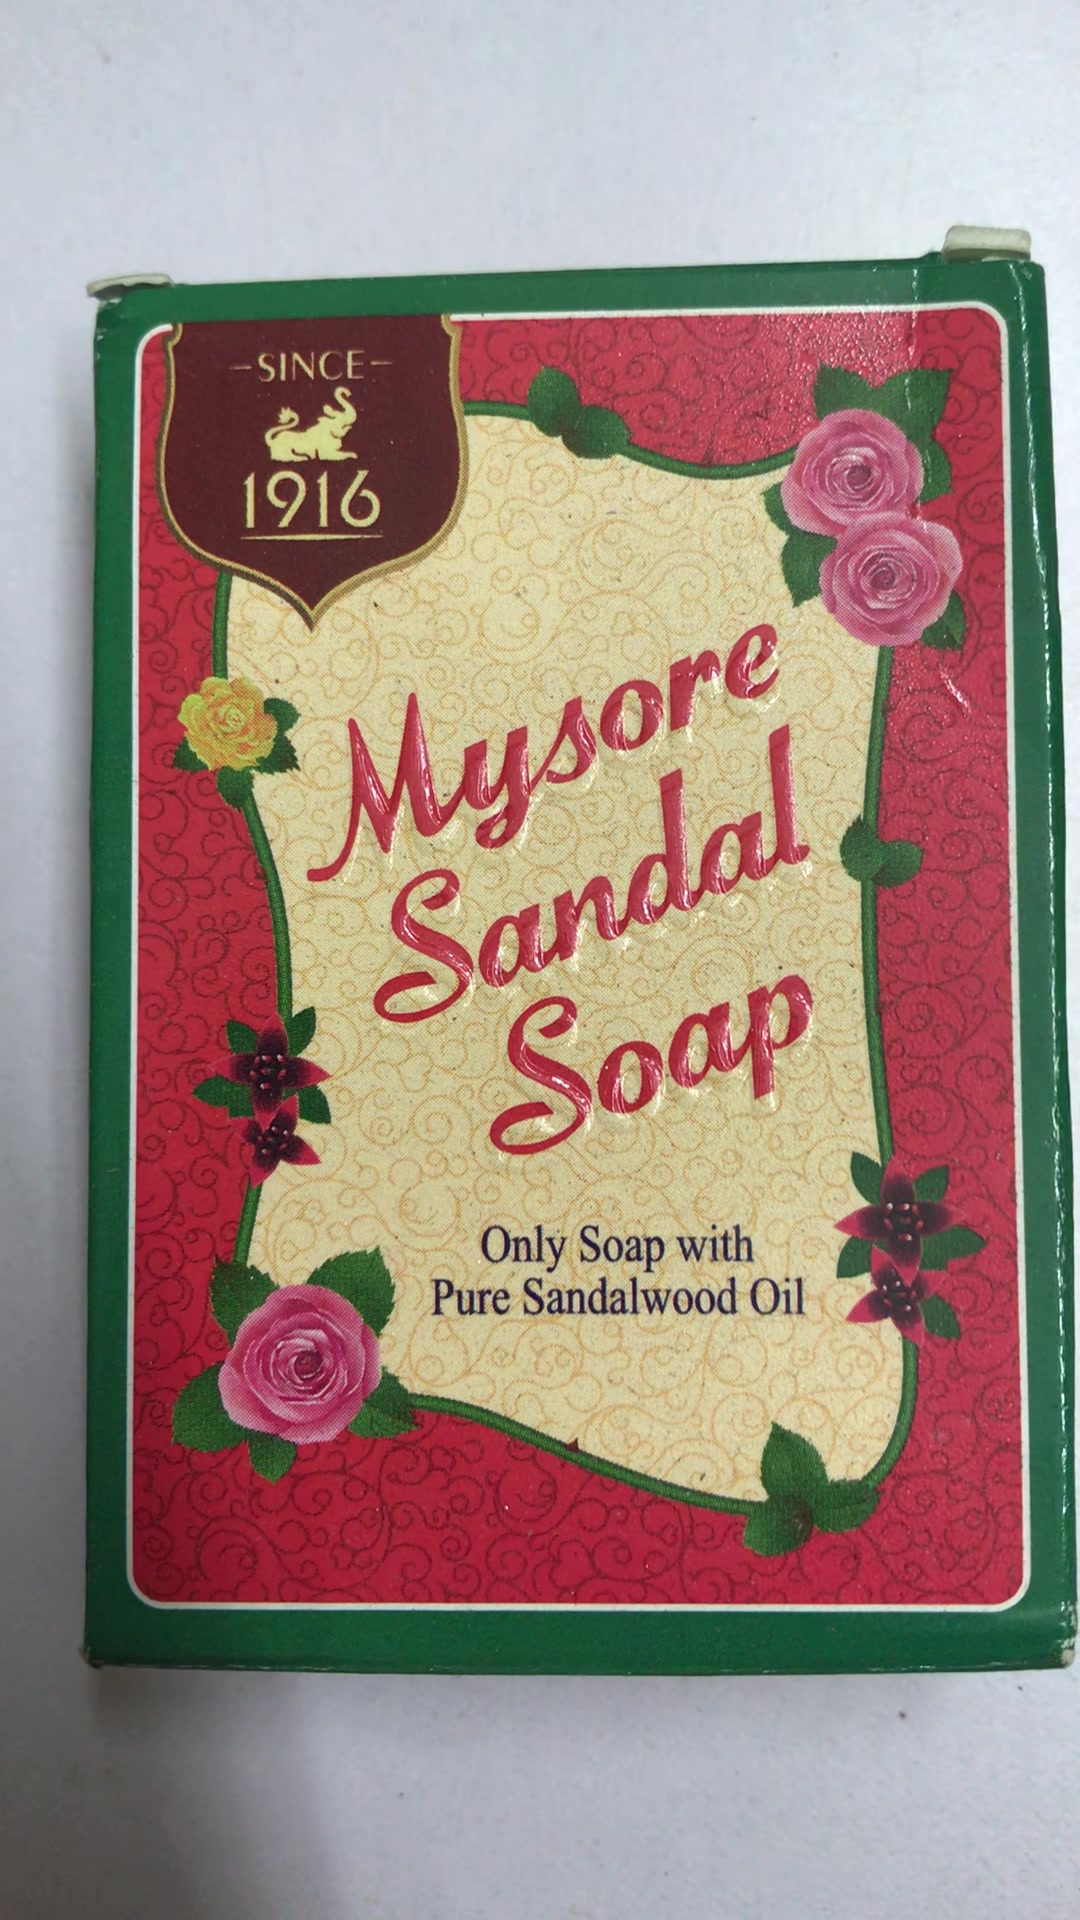mysore sandal soap: (94, 269, 1080, 1677)
